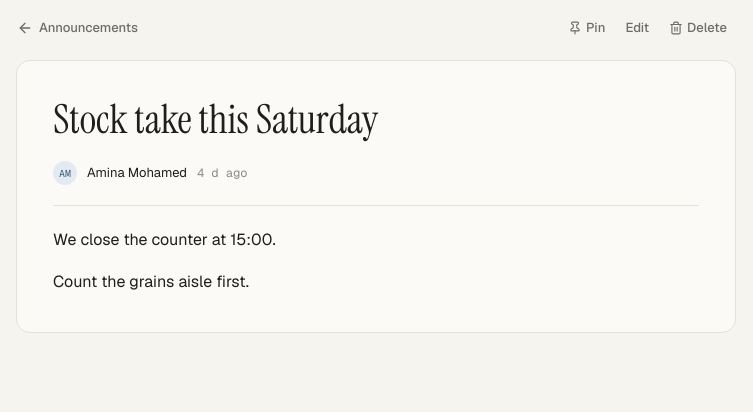
Scenario: AnnouncementDetail › shows a failed pin at the control, not in a toast
Click the button "Pin" at (587, 28), box [559,12,614,44]
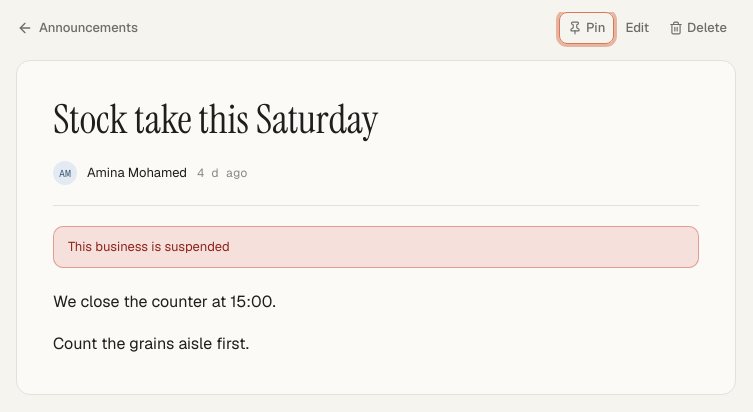
Check: the message reads "This business is suspended", box [68,238,230,255]
